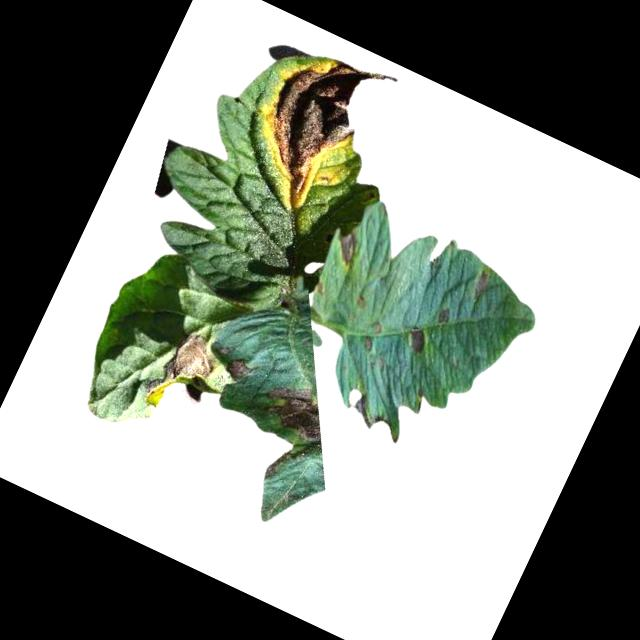Early_blight: (237, 32, 403, 227), (235, 369, 345, 497), (140, 321, 227, 427), (327, 225, 366, 269), (223, 352, 257, 387), (403, 323, 434, 355), (468, 268, 495, 303), (432, 303, 458, 329), (359, 331, 377, 349)
